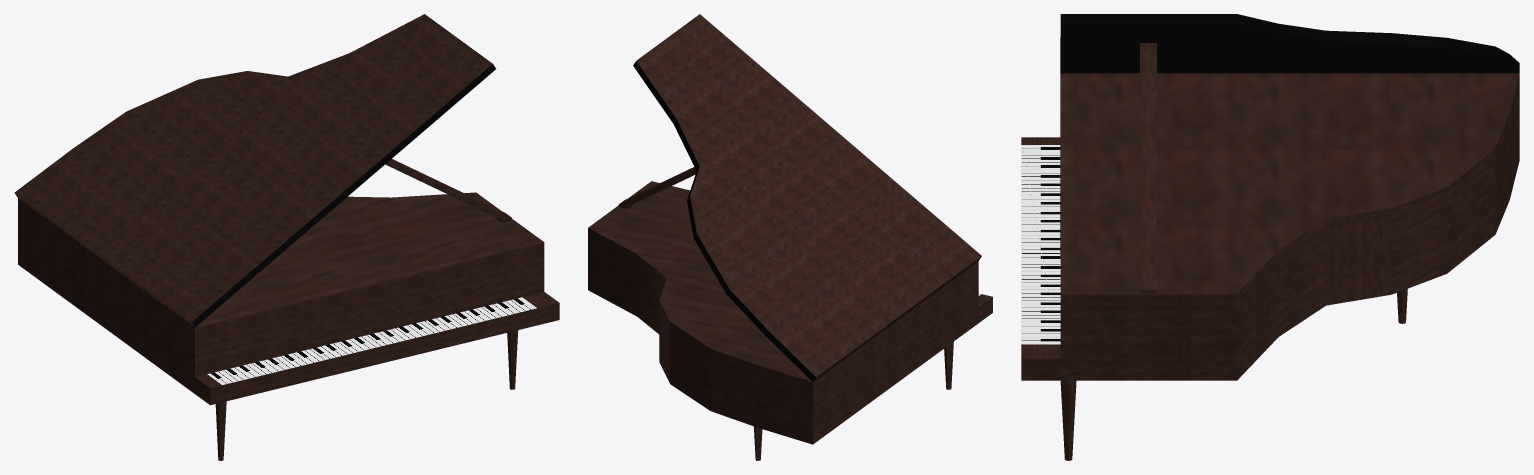
File: piano.fbx
The picture shows the model from 3 angles, left to right: view 1: azimuth 30°, elevation 25°; view 2: azimuth 150°, elevation 25°; view 3: azimuth 270°, elevation 25°; orthographic projection. The views are drawn at different scales.
Visible parts, largest first — view 1: polySurface2; view 2: polySurface2; view 3: polySurface2.
Part boxes in pixels (box(x1,y1,x2,y2)): polySurface2: box(14, 14, 559, 460); polySurface2: box(588, 14, 992, 460); polySurface2: box(1021, 14, 1519, 460).
Size of the model in its own units: 0.8959 by 0.807 by 0.8457.
